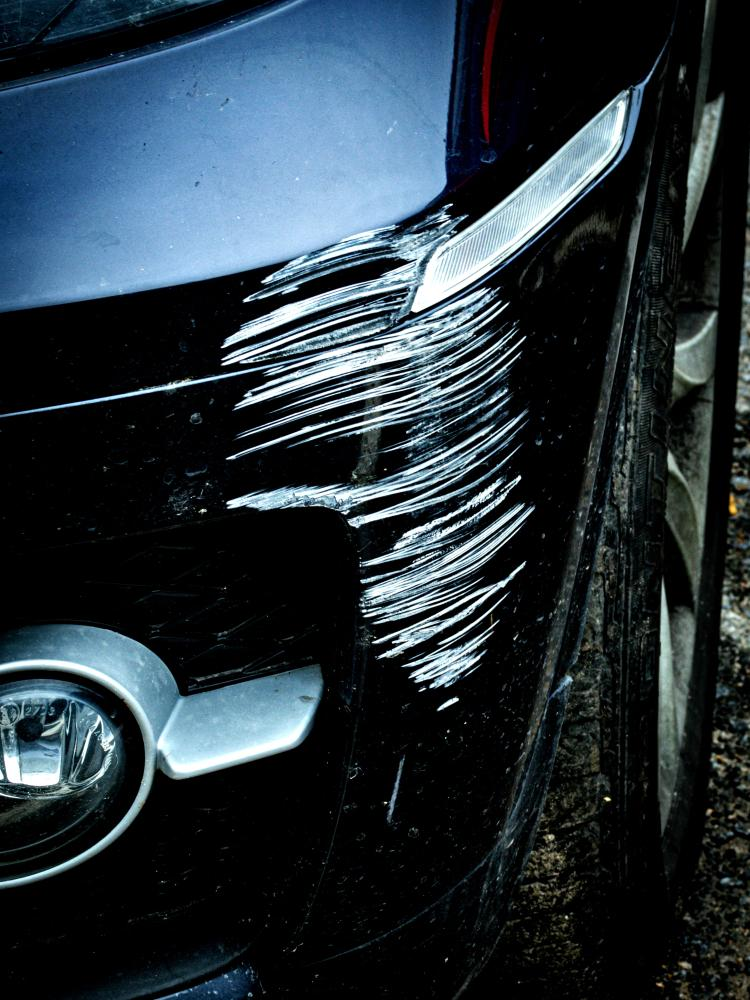scratch: (208, 203, 538, 722)
